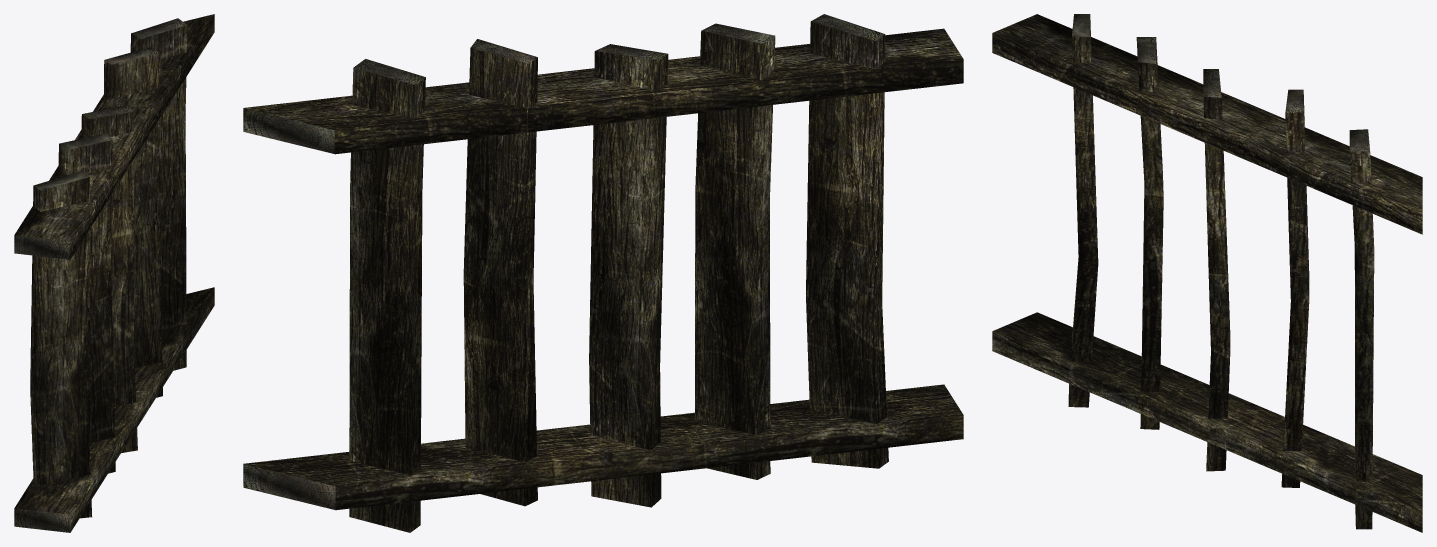
The model's file is ex_de_docks_steps_01.obj.
3 renders of one model, left to right at view 1: azimuth 30°, elevation 25°; view 2: azimuth 150°, elevation 25°; view 3: azimuth 270°, elevation 25°, orthographic. The views are drawn at different scales.
Visible parts, largest first — view 1: Tri Ex_De_Docks_Steps_01 0, Tri Ex_De_Docks_Steps_01 1; view 2: Tri Ex_De_Docks_Steps_01 0, Tri Ex_De_Docks_Steps_01 1; view 3: Tri Ex_De_Docks_Steps_01 0, Tri Ex_De_Docks_Steps_01 1.
Part boxes in pixels (x1,y1,x2,y2): Tri Ex_De_Docks_Steps_01 0: (14,14,214,532); Tri Ex_De_Docks_Steps_01 1: (14,18,186,532); Tri Ex_De_Docks_Steps_01 0: (243,21,963,532); Tri Ex_De_Docks_Steps_01 1: (243,14,884,509); Tri Ex_De_Docks_Steps_01 0: (992,14,1422,532); Tri Ex_De_Docks_Steps_01 1: (1072,14,1369,151).
Size of the model in its own units: 172 by 156 by 156.
Materials: 2 (2 with a texture image).
